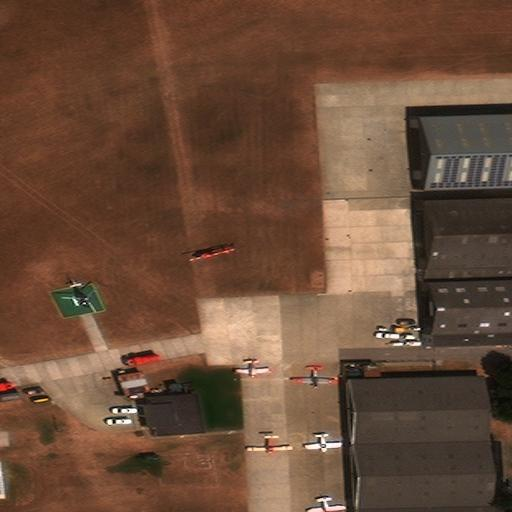Small Civil Transport: (290, 365, 336, 388), (246, 434, 293, 455), (234, 359, 270, 378), (305, 433, 340, 452), (309, 496, 345, 511)
